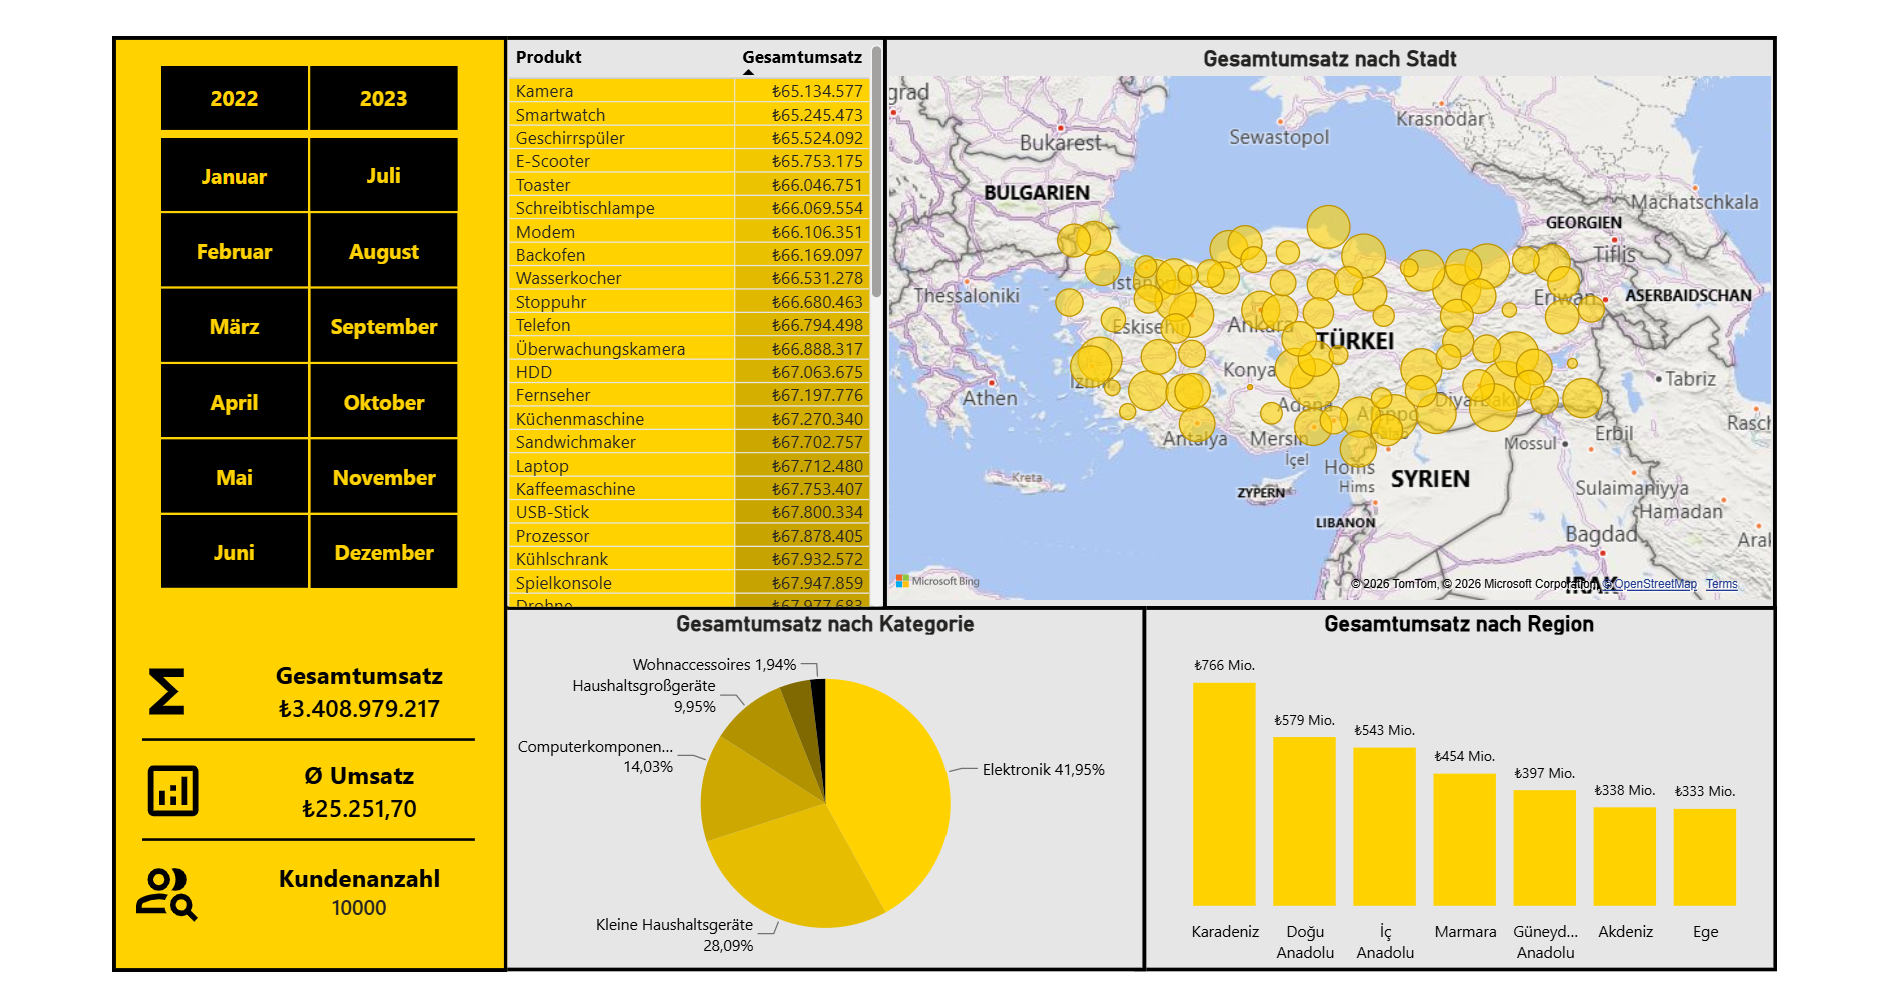

The dashboard page shown, as its layout file describes it:
{"tool":"powerbi","page":{"name":"Page 1","canvas":[1280,720],"ordinal":0},"visuals":[{"type":"shape","box":[297.3,0,306.3,450.4],"z":0},{"type":"shape","box":[593.2,0,686.8,450.1],"z":1000},{"type":"shape","box":[785.1,438.4,494.9,281.2],"z":2000},{"type":"shape","box":[300.3,438.4,494.9,281.2],"z":3000},{"type":"shape","box":[0,0,304.5,720],"z":4000},{"type":"image","box":[5.4,477.3,73.4,52.8],"z":5000},{"type":"image","box":[9.9,554.3,73.4,51.9],"z":6000},{"type":"image","box":[5.4,631.3,73.4,51.9],"z":7000},{"type":"cardVisual","title":"Gesamtumsatz","fields":{"Data":["Sum(umsatz.satis_tutari)","Sum(umsatz.satis_tutari)"]},"box":[82.4,464.8,216.7,77],"z":8000},{"type":"advancedSlicerVisual","fields":{"Values":["umsatz.Monat_DE"]},"box":[37.6,78.8,228.4,349.3],"z":9000,"group":"g1"},{"type":"cardVisual","title":"Gesamtumsatz","fields":{"Data":["Avg(umsatz.satis_tutari)"]},"box":[82.4,541.8,216.7,77],"z":9000},{"type":"cardVisual","title":"Gesamtumsatz","fields":{"Data":["Count(umsatz.musteri_numarasi)"]},"box":[82.4,618.8,216.7,77],"z":10000},{"type":"shape","box":[23.3,530.1,256.1,22.4],"z":11000},{"type":"tableEx","fields":{"Values":["umsatz.Produkt_DE","Sum(umsatz.satis_tutari)"]},"box":[304.5,7.2,288.4,431.6],"z":12000},{"type":"shape","box":[23.3,607.2,256.1,22.4],"z":13000},{"type":"group","id":"g1","title":"Group 1","box":[37.6,23.3,228.4,404.8],"z":14000},{"type":"pieChart","title":"Gesamtumsatz nach Kategorie","fields":{"Category":["kategorien.Kategorie_DE"],"Y":["Sum(umsatz.satis_tutari)"]},"box":[304.5,441.5,488.1,278.5],"z":14001},{"type":"columnChart","title":"Gesamtumsatz nach Region","fields":{"Category":["regionen.Region_DE"],"Y":["Sum(umsatz.satis_tutari)"]},"box":[792.5,441.5,487.2,278.5],"z":14002},{"type":"map","title":"Gesamtumsatz nach Stadt","fields":{"Category":["regionen.il"],"Size":["Sum(umsatz.satis_tutari)"],"X":["Avg(umsatz.Longitude)"],"Y":["Avg(umsatz.Latitude)"]},"box":[592.8,7.2,686.9,431.6],"z":14003},{"type":"advancedSlicerVisual","fields":{"Values":["umsatz.tarih.Variation.Date Hierarchy.Year"]},"box":[37.6,23.3,228.4,49.3],"z":14004,"group":"g1"}]}

Visuals, with their boxes in screenshot pixels (x1, y1, x2, y2):
shape: x1=497, y1=20, x2=902, y2=616
shape: x1=888, y1=20, x2=1797, y2=615
shape: x1=1142, y1=600, x2=1797, y2=972
shape: x1=501, y1=600, x2=1156, y2=972
shape: x1=103, y1=20, x2=506, y2=973
image: x1=110, y1=651, x2=207, y2=721
image: x1=116, y1=753, x2=213, y2=822
image: x1=110, y1=855, x2=207, y2=924
"Gesamtumsatz" cardVisual: x1=212, y1=635, x2=499, y2=737
advancedSlicerVisual - umsatz.Monat_DE: x1=153, y1=124, x2=455, y2=586
"Gesamtumsatz" cardVisual: x1=212, y1=737, x2=499, y2=839
"Gesamtumsatz" cardVisual: x1=212, y1=839, x2=499, y2=941
shape: x1=134, y1=721, x2=473, y2=751
tableEx - umsatz.Produkt_DE x Sum(umsatz.satis_tutari): x1=506, y1=29, x2=888, y2=600
shape: x1=134, y1=823, x2=473, y2=853
"Group 1" group: x1=153, y1=50, x2=455, y2=586
"Gesamtumsatz nach Kategorie" pieChart: x1=506, y1=604, x2=1152, y2=973
"Gesamtumsatz nach Region" columnChart: x1=1152, y1=604, x2=1797, y2=973
"Gesamtumsatz nach Stadt" map: x1=888, y1=29, x2=1797, y2=600
advancedSlicerVisual - umsatz.tarih.Variation.Date Hierarchy.Year: x1=153, y1=50, x2=455, y2=116
